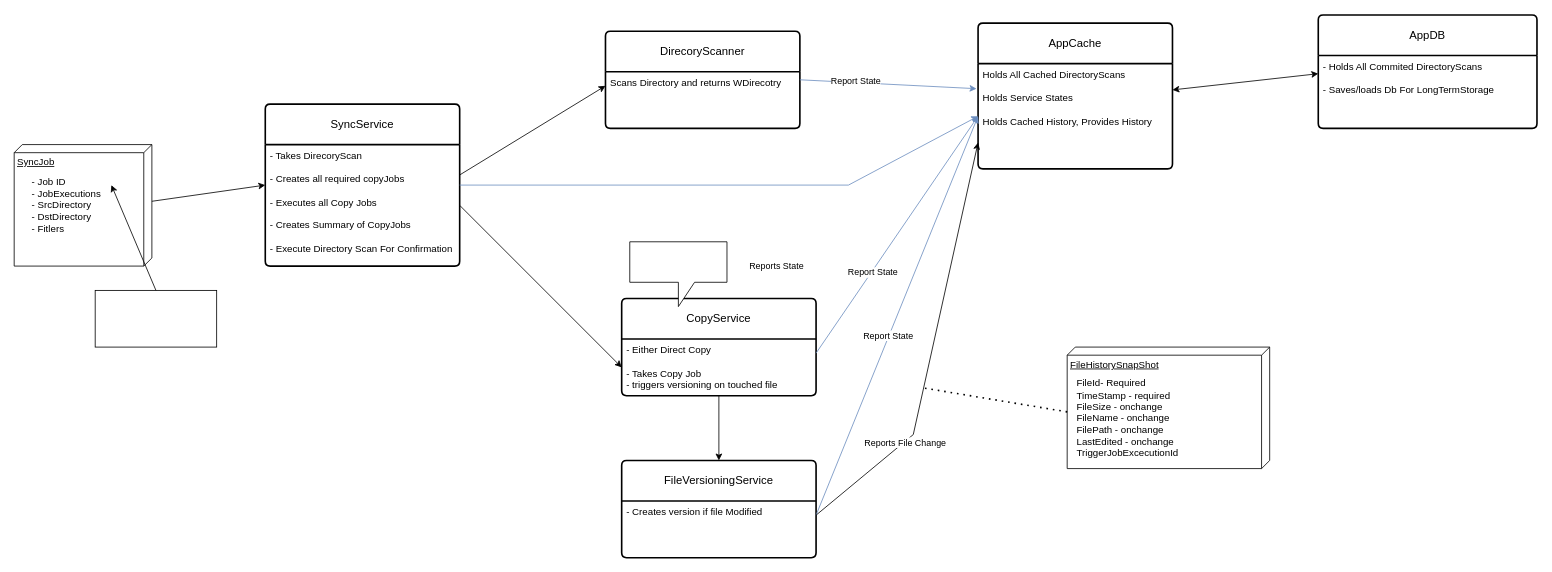
The diagram is 1552 pixels wide and 572 high, and some of its shapes have lost their labels. Each missing label, with the centre of its shape:
files are only Modified Here: the point at 678,274
JobExcecution Id Date list<FileHistorySnapShot>: the point at 155,318
